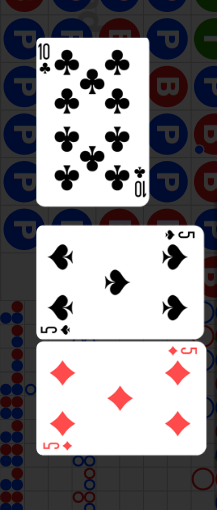10C: (38, 42, 53, 77)
5D: (42, 440, 74, 452)
5S: (40, 323, 72, 336)
